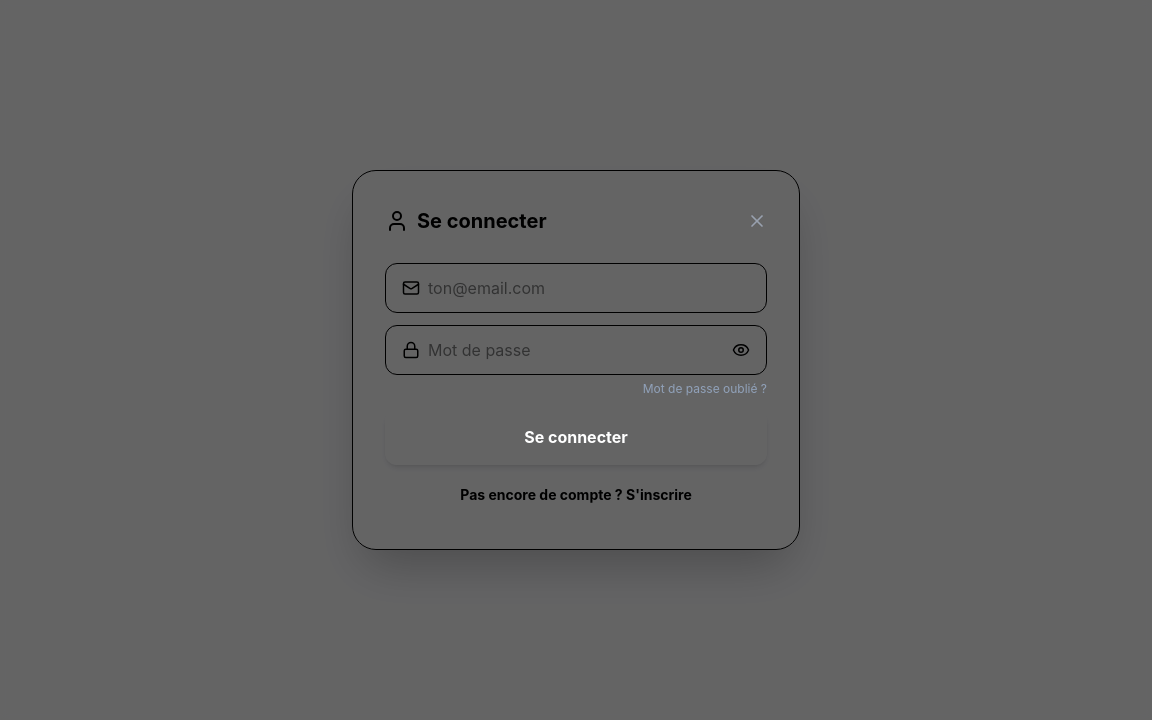
it: AuthModal — bascule entre les modes › "Mot de passe oublié ?" passe en mode forgot et conserve l'e-mail déjà saisi
This screenshot has width=1152, height=720.
Type "alex@example.com" into the field with placeholder "ton@email.com" at (589, 288), box x1=428 y1=276 x2=750 y2=300
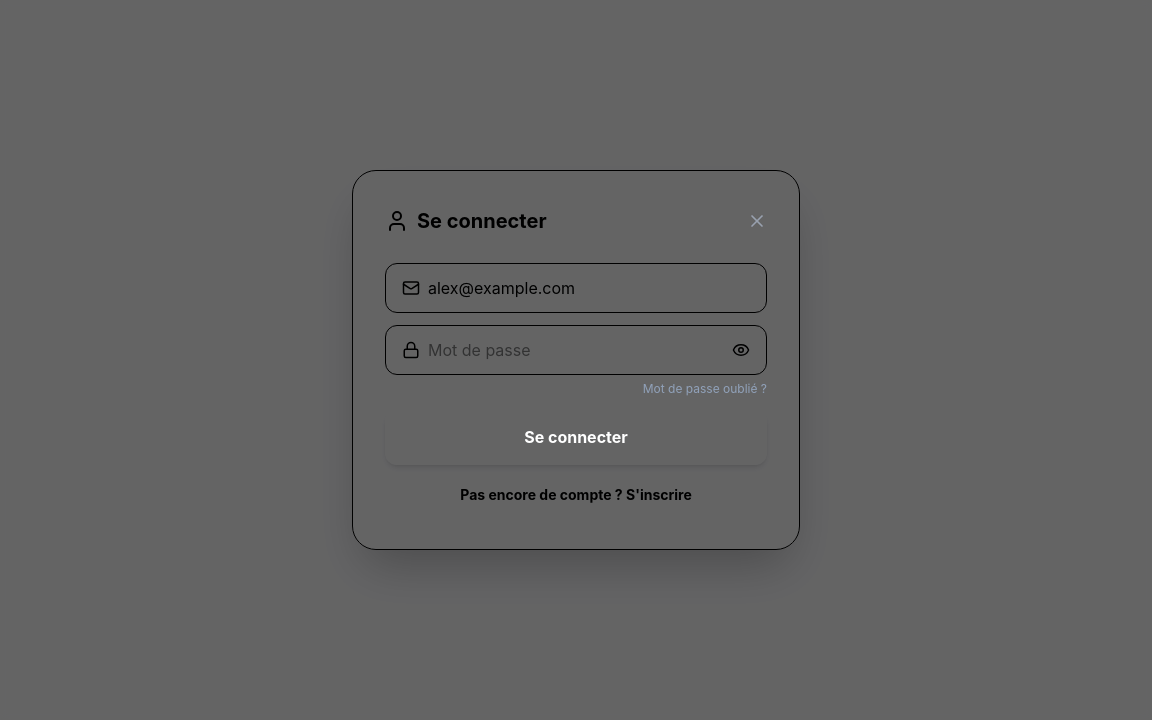
Click the button "Mot de passe oublié ?" at (705, 389), box x1=643 y1=381 x2=767 y2=397
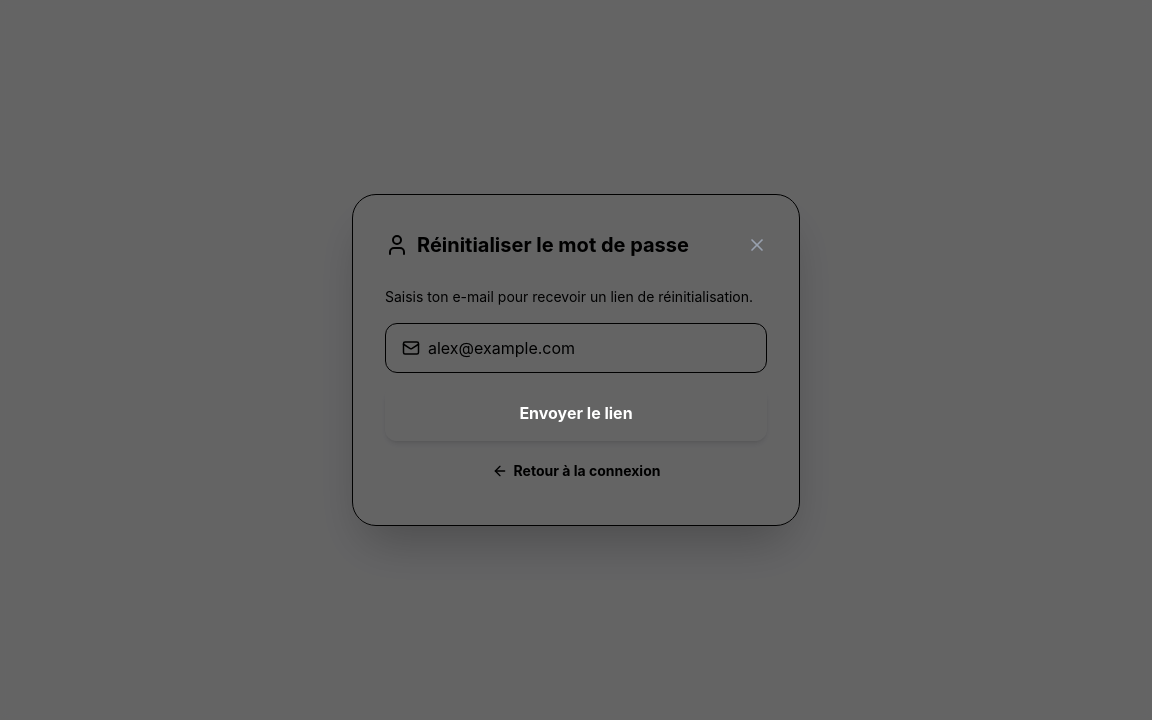
Check: the field with placeholder "ton@email.com" holds "alex@example.com", box x1=428 y1=336 x2=750 y2=360
Check: the text "Réinitialiser le mot de passe" is shown, box x1=417 y1=231 x2=689 y2=259
